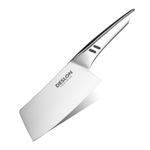knief: (28, 9, 136, 139)
